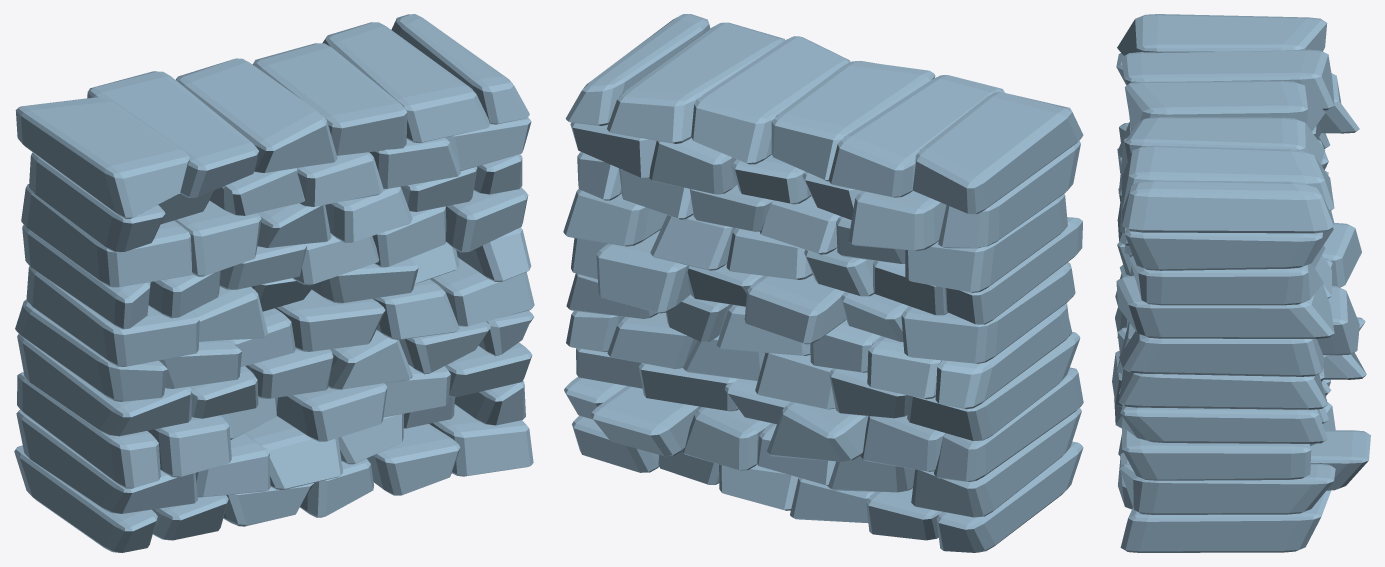
The model's file is Walls2.fbx.
3 views of the same model, side by side, from view 1: azimuth 30°, elevation 25°; view 2: azimuth 150°, elevation 25°; view 3: azimuth 270°, elevation 25° (orthographic). The views are drawn at different scales.
Visible parts, largest first — view 1: Wall single.006; view 2: Wall single.006; view 3: Wall single.006.
Boxes of the visible parts, left/top/right/bottom form: Wall single.006: left=14, top=14, right=534, bottom=552; Wall single.006: left=563, top=14, right=1083, bottom=552; Wall single.006: left=1112, top=14, right=1370, bottom=552.
Size of the model in its own units: 902 by 806 by 527.
